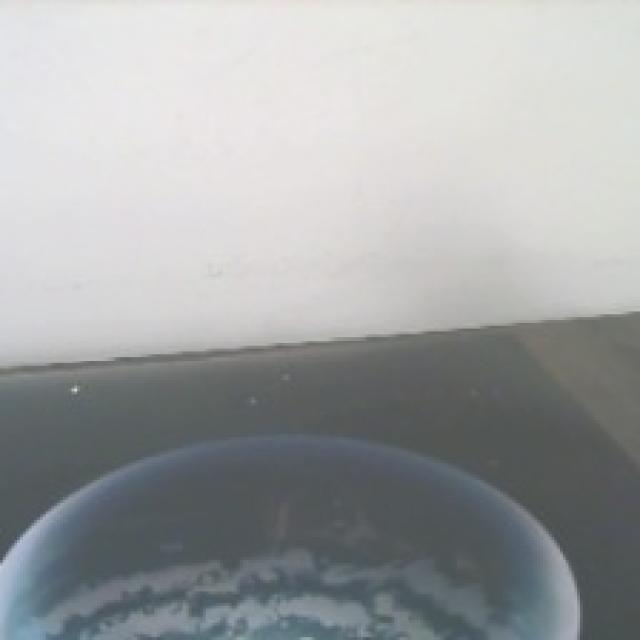Earth: (0, 431, 577, 640)
